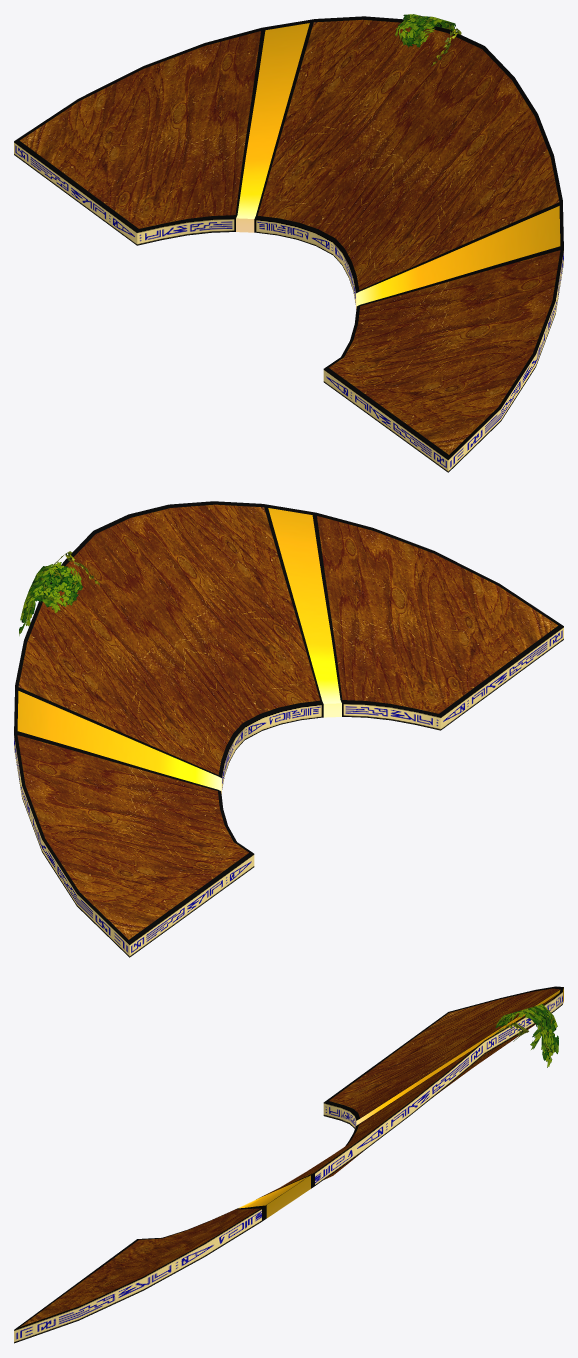
File: jungle_curve.gltf
3 views of the same model, one above another, from view 1: azimuth 30°, elevation 25°; view 2: azimuth 150°, elevation 25°; view 3: azimuth 330°, elevation 25° (orthographic).
Visible parts, largest first — view 1: jungle_curve_glb; view 2: jungle_curve_glb; view 3: jungle_curve_glb.
Part boxes in pixels (x1=…): jungle_curve_glb: x1=14, y1=14, x2=563, y2=472; jungle_curve_glb: x1=14, y1=501, x2=563, y2=957; jungle_curve_glb: x1=14, y1=986, x2=563, y2=1343.
Size of what is drawn, in the model's own units: 4.98 by 3.67 by 14.03.
Materials: 2 (2 with a texture image).
